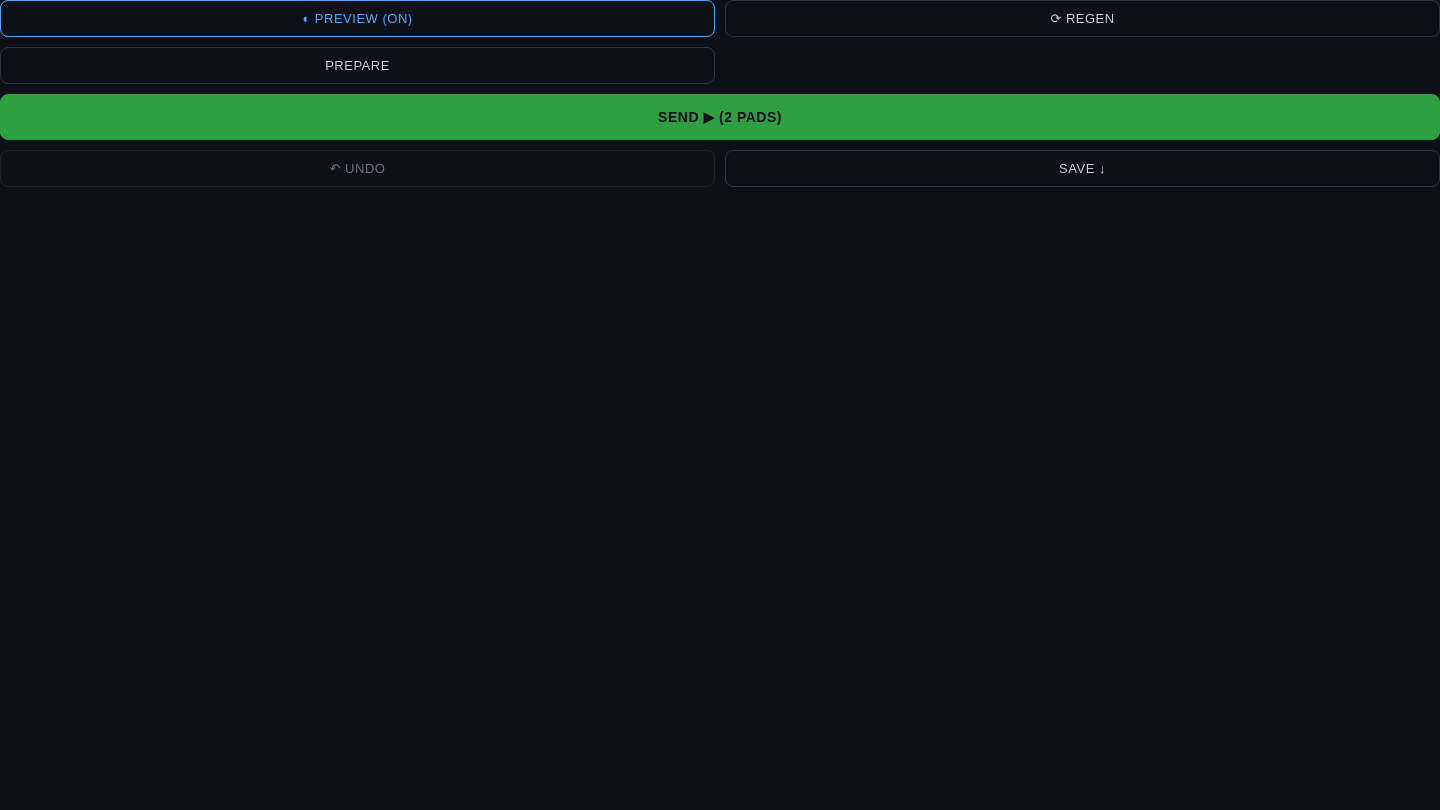
Test: ActionBar › armed per-action send confirmation › Escape closes the confirm dialog without sending
Click the button with test id "action-send" at x=720, y=117, box left=0, top=94, right=1439, bottom=140
(page scrolled)
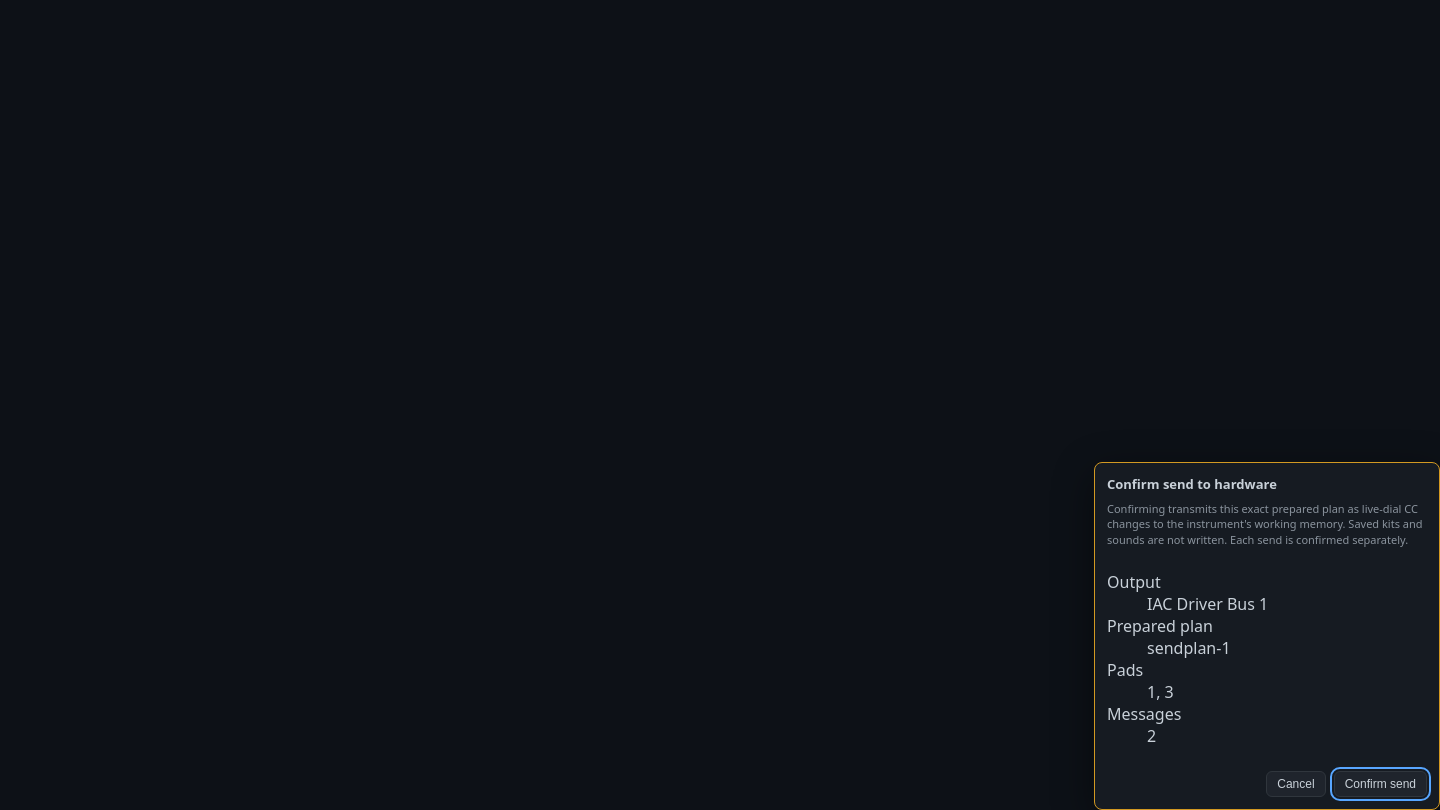
Press Escape in the dialog with test id "send-confirm-dialog", box left=1094, top=462, right=1439, bottom=809
(page scrolled)
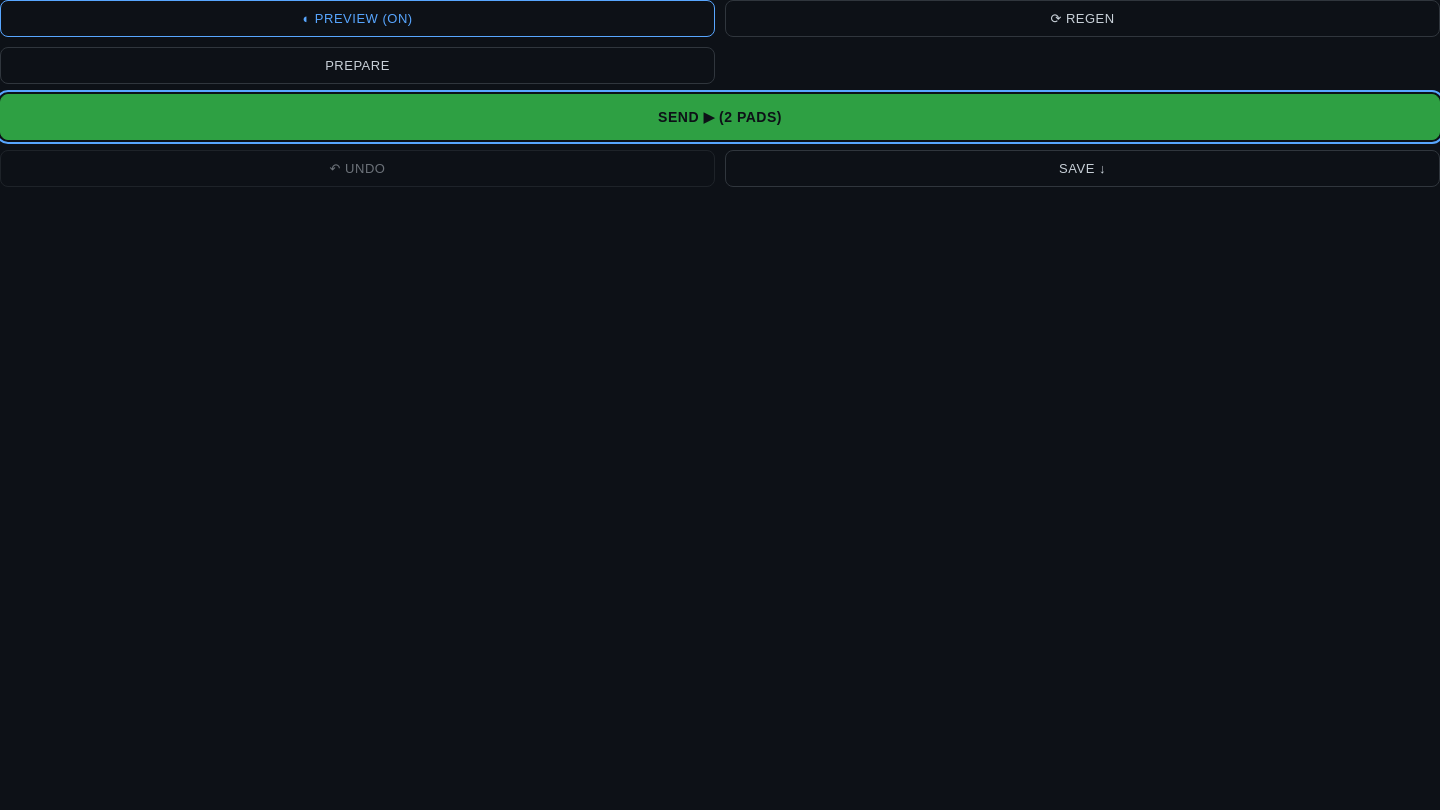
expect the dialog with test id "send-confirm-dialog" is gone: met
